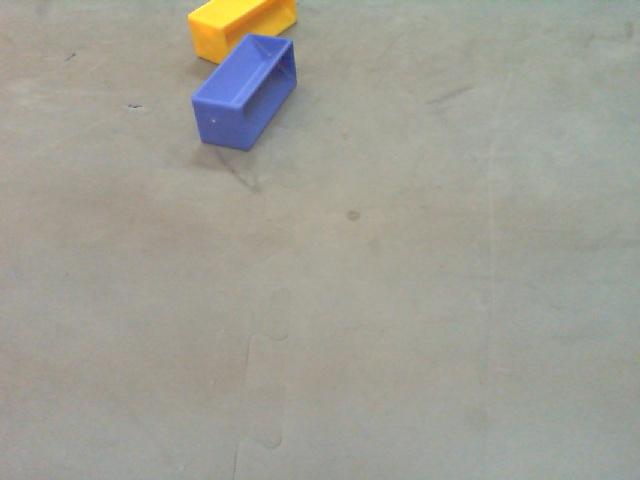BlueSample: (188, 32, 300, 155)
YellowSample: (185, 1, 298, 66)
